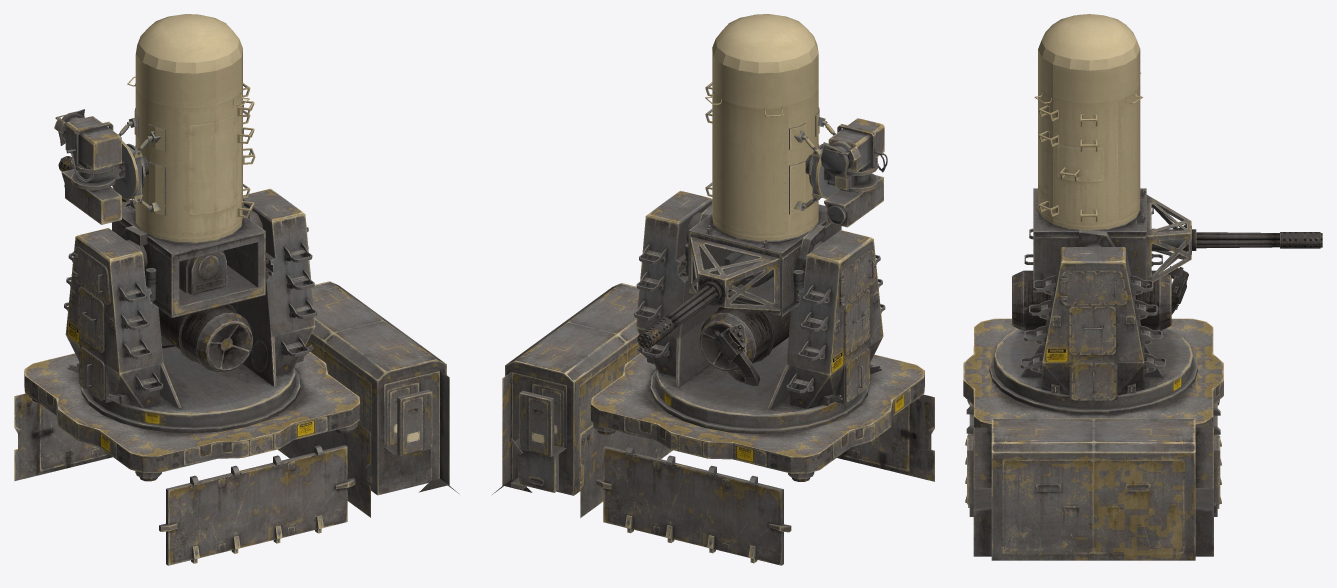
Rendered from cram.glb.
3 renders of one model, left to right at view 1: azimuth 30°, elevation 25°; view 2: azimuth 150°, elevation 25°; view 3: azimuth 270°, elevation 25°, orthographic. The views are drawn at different scales.
Parts seen in each view (by area): view 1: V_cram; view 2: V_cram; view 3: V_cram.
Boxes of the visible parts, x1=… form: V_cram: x1=14, y1=14, x2=458, y2=565; V_cram: x1=492, y1=14, x2=934, y2=565; V_cram: x1=963, y1=14, x2=1322, y2=560.
Size of the model in its own units: 16.92 by 23.47 by 16.8.
1 material, 1 textured.
